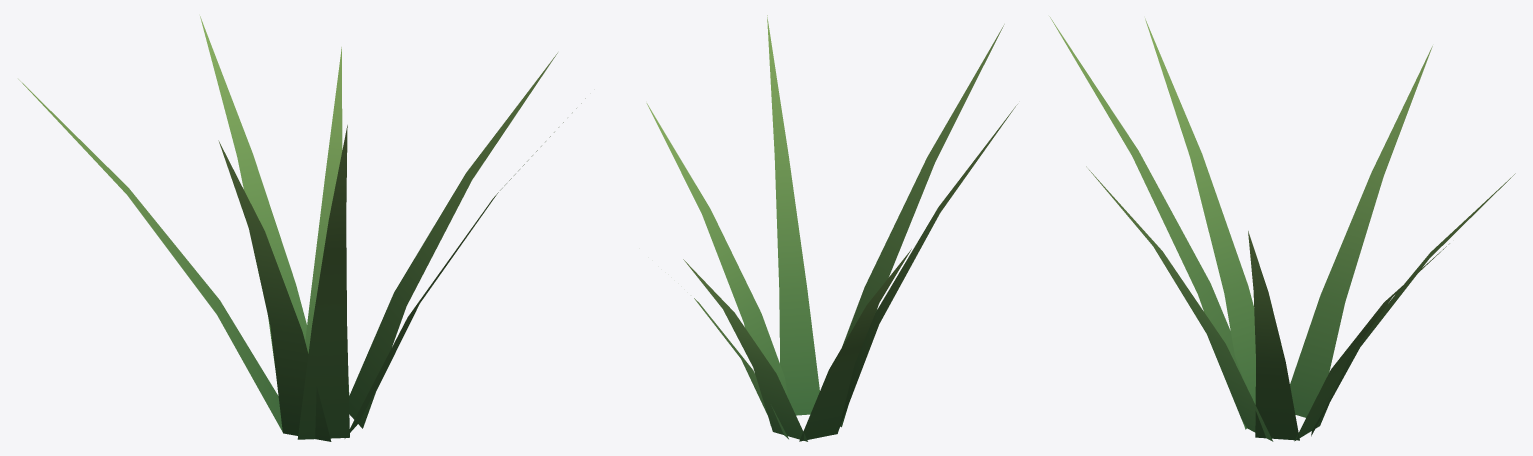
Rendered from grass.glb.
The picture shows the model from 3 angles, left to right: view 1: azimuth 30°, elevation 25°; view 2: azimuth 150°, elevation 25°; view 3: azimuth 270°, elevation 25°; orthographic projection. The views are drawn at different scales.
Visible parts, largest first — view 1: CapimMalha; view 2: CapimMalha; view 3: CapimMalha.
Boxes of the visible parts, x1,y1,x2,y2 form: CapimMalha: [18, 16, 585, 441]; CapimMalha: [646, 15, 1017, 441]; CapimMalha: [1049, 16, 1515, 441].
Bounding box in the file's own units: 0.5771 × 0.5368 × 0.6247.
